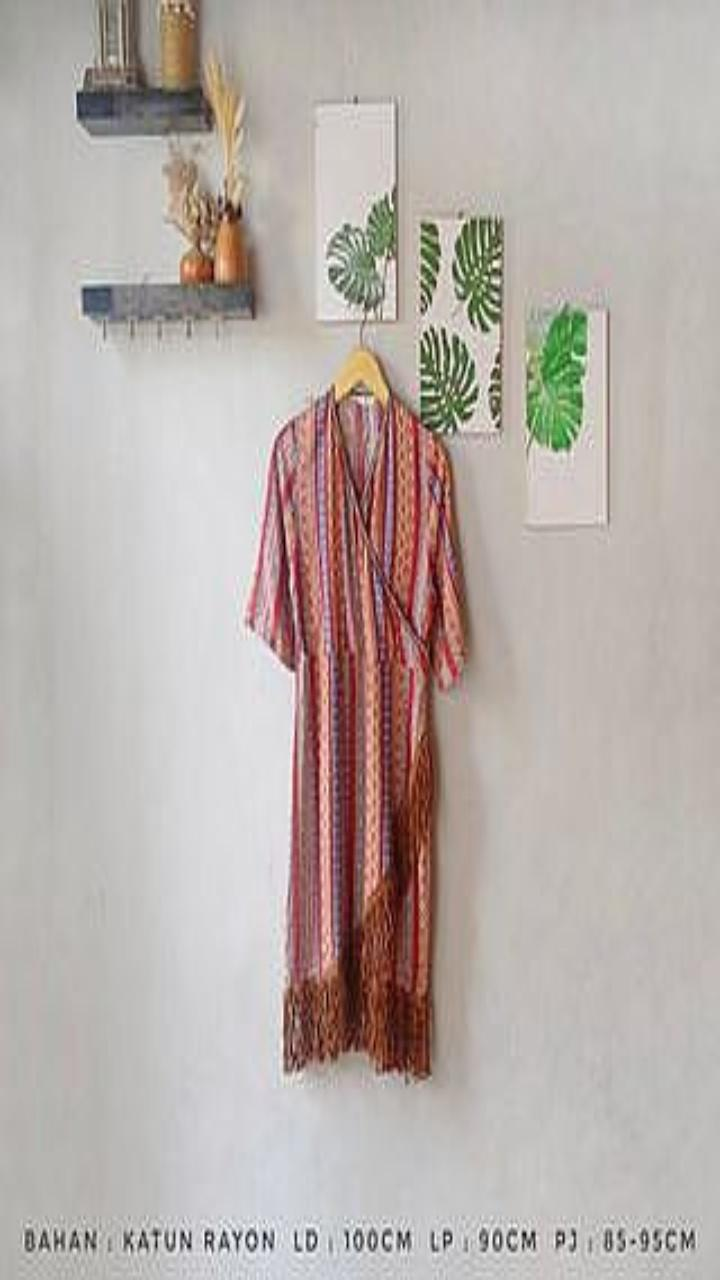Dresses: (246, 390, 462, 1076)
